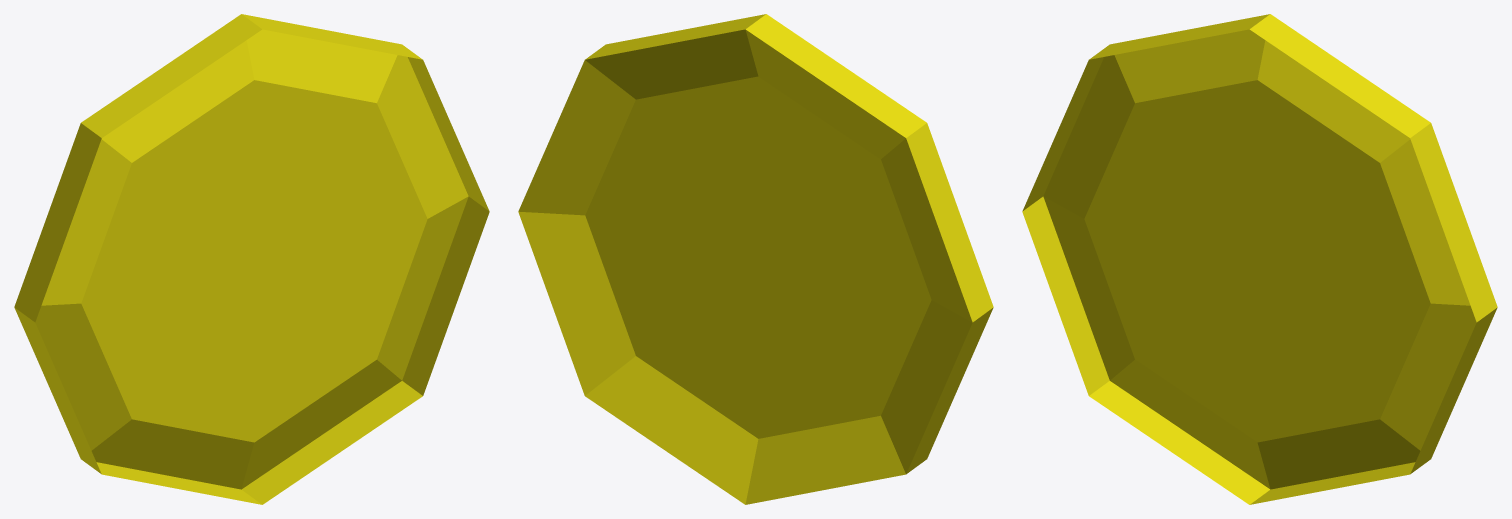
File: Coin.glb
3 views of the same model, side by side, from view 1: azimuth 30°, elevation 25°; view 2: azimuth 150°, elevation 25°; view 3: azimuth 330°, elevation 25° (orthographic).
Visible parts, largest first — view 1: Circle; view 2: Circle; view 3: Circle.
Part boxes in pixels (<box>): Circle: <box>14,14,489,504</box>; Circle: <box>518,14,993,504</box>; Circle: <box>1022,14,1497,504</box>.
Bounding box in the file's own units: 2 × 2 × 0.1604.
